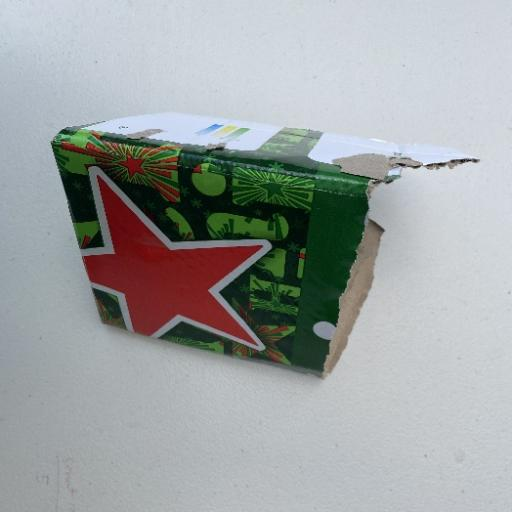Cardboard: (49, 110, 480, 379)
